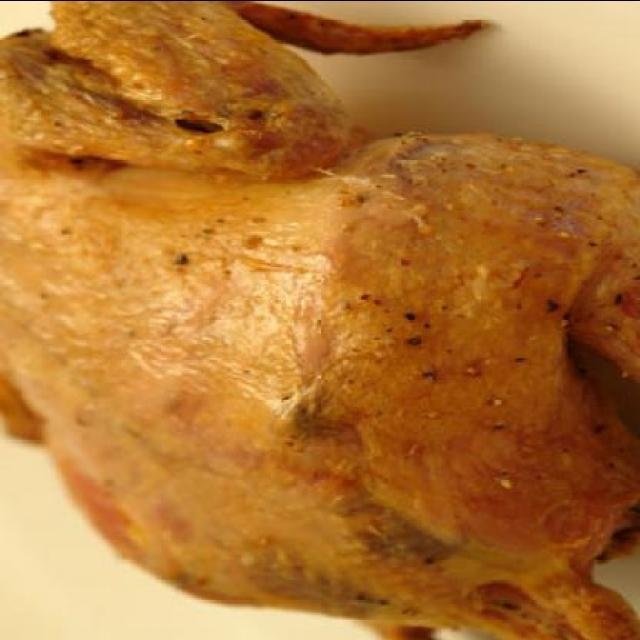Chicken roast: (20, 10, 638, 628)
